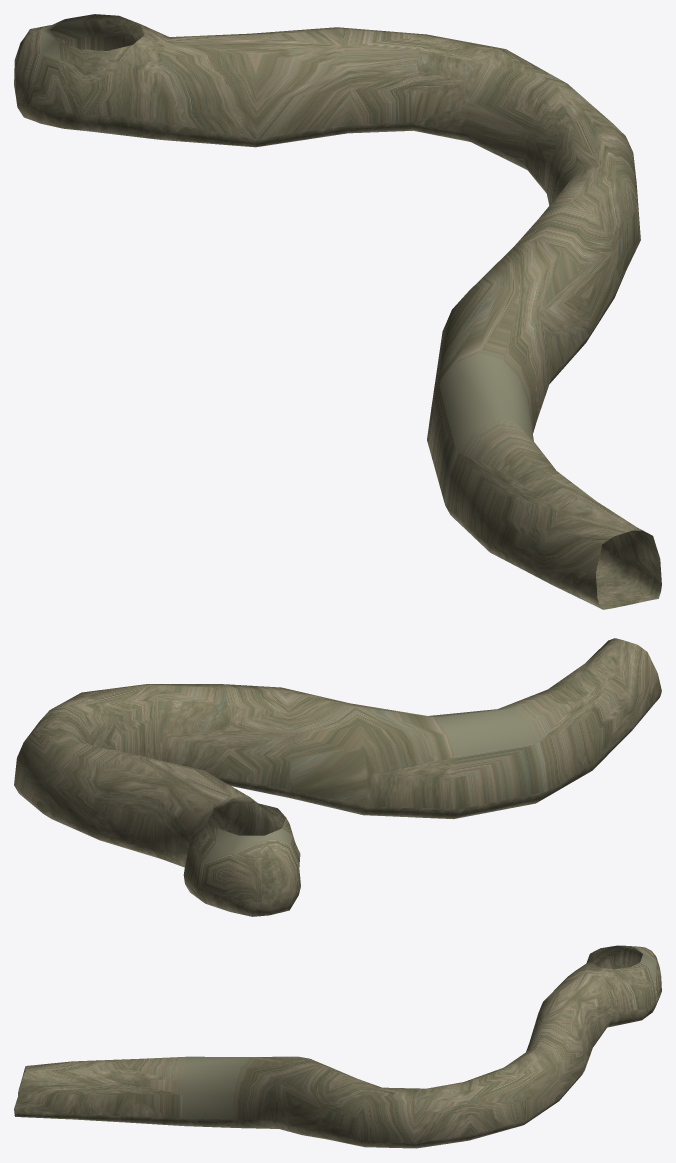
Rendered from OVERHILL_A_01_TRES_EXIT_CAVE.fbx.
3 views of the same model, one above another, from view 1: azimuth 30°, elevation 25°; view 2: azimuth 150°, elevation 25°; view 3: azimuth 270°, elevation 25° (orthographic). The views are drawn at different scales.
Parts seen in each view (by area): view 1: OVERHILL_A_01_TRES_EXIT_CAVE; view 2: OVERHILL_A_01_TRES_EXIT_CAVE; view 3: OVERHILL_A_01_TRES_EXIT_CAVE.
Part boxes in pixels (<box>): OVERHILL_A_01_TRES_EXIT_CAVE: <box>14,14,661,609</box>; OVERHILL_A_01_TRES_EXIT_CAVE: <box>14,638,661,916</box>; OVERHILL_A_01_TRES_EXIT_CAVE: <box>14,945,661,1148</box>.
Size of the model in its own units: 163369 by 85627 by 339521.
Materials: 1 (1 with a texture image).
